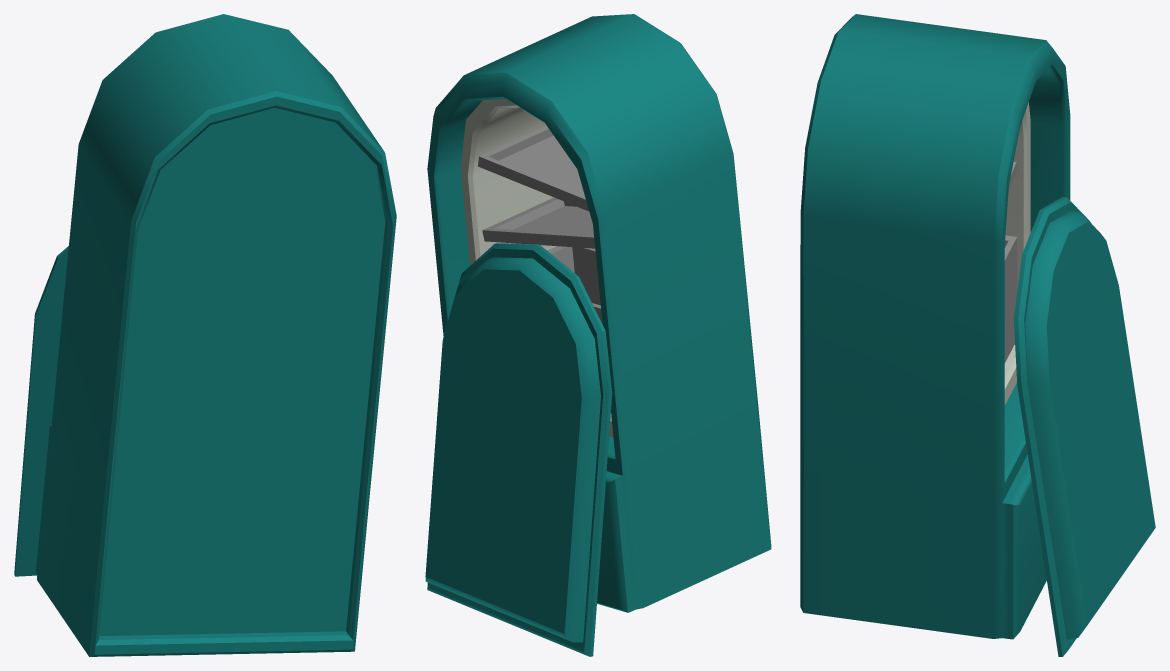
Rendered from SM_refrigerator.fbx.
3 renders of one model, left to right at view 1: azimuth 30°, elevation 25°; view 2: azimuth 150°, elevation 25°; view 3: azimuth 270°, elevation 25°, orthographic. The views are drawn at different scales.
Visible parts, largest first — view 1: polySurface144; view 2: polySurface144; view 3: polySurface144.
Boxes of the visible parts, x1=… form: polySurface144: x1=14, y1=14, x2=396, y2=656; polySurface144: x1=425, y1=14, x2=771, y2=656; polySurface144: x1=800, y1=14, x2=1155, y2=656.
Bounding box in the file's own units: 210 × 368 × 208.
